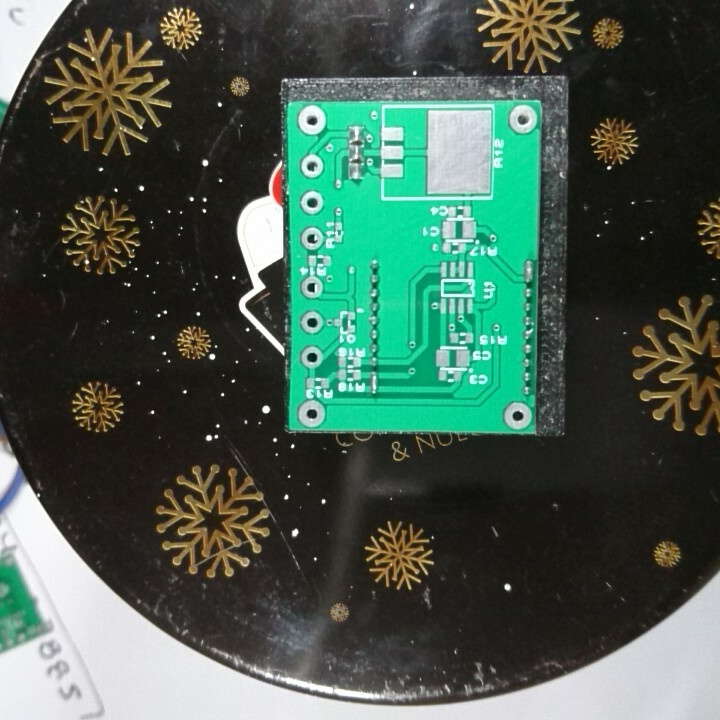F: (295, 103, 330, 137), (507, 103, 539, 138), (502, 401, 533, 429), (297, 398, 325, 427), (299, 188, 325, 218), (297, 274, 325, 301), (299, 307, 325, 336), (299, 154, 326, 180), (299, 225, 325, 252), (299, 343, 325, 369)
P: (367, 371, 382, 401), (522, 258, 535, 284)
